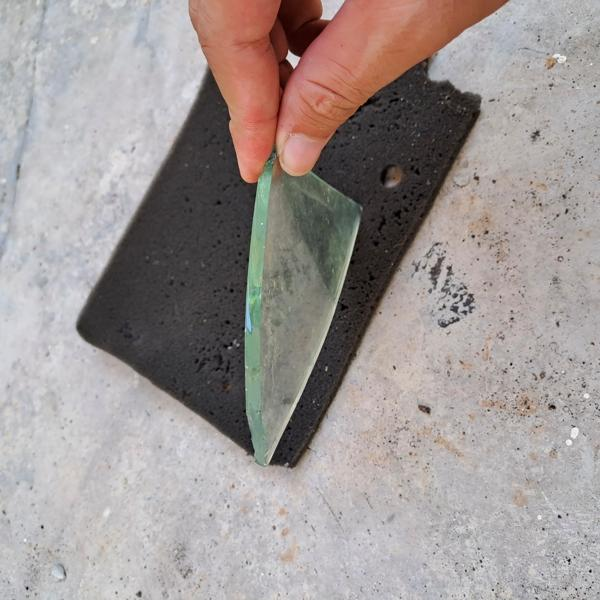Anorganik: (217, 164, 357, 473)
